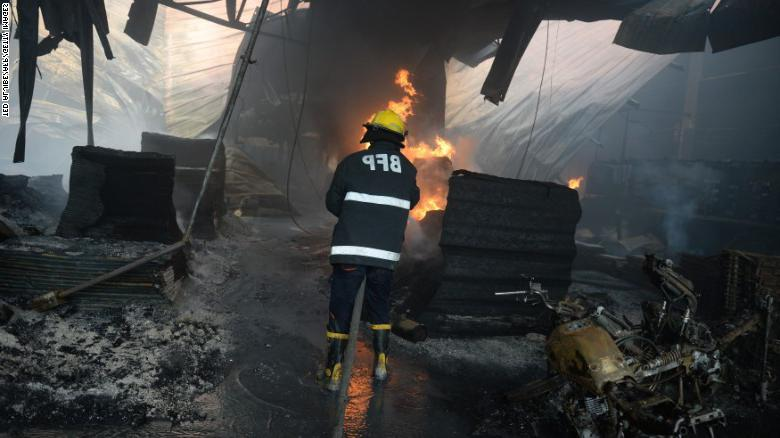fire: (388, 71, 460, 217)
